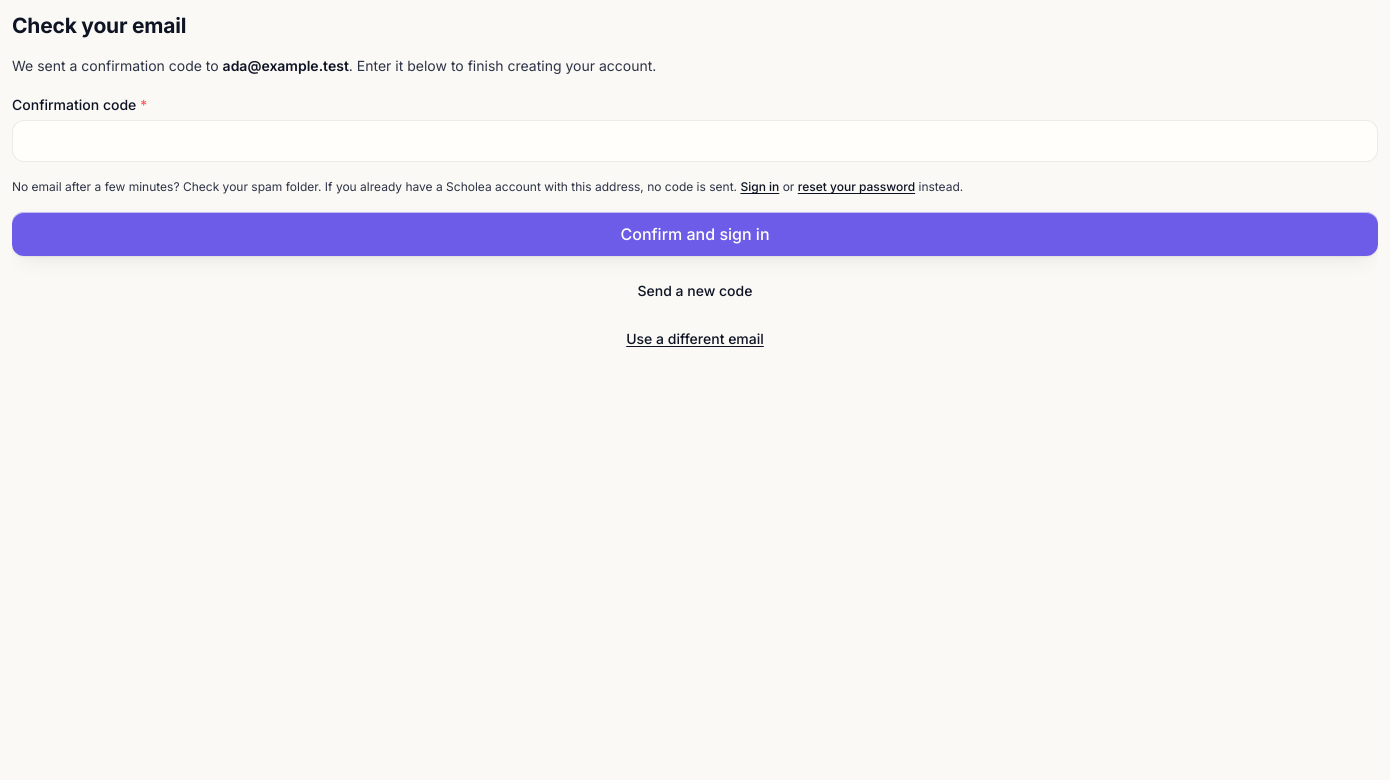
it: the account screens where an account can be created (the research app) › still lets the person start over with a different email
Click the button "Use a different email".
click(695, 339)  # box [626,328,764,349]
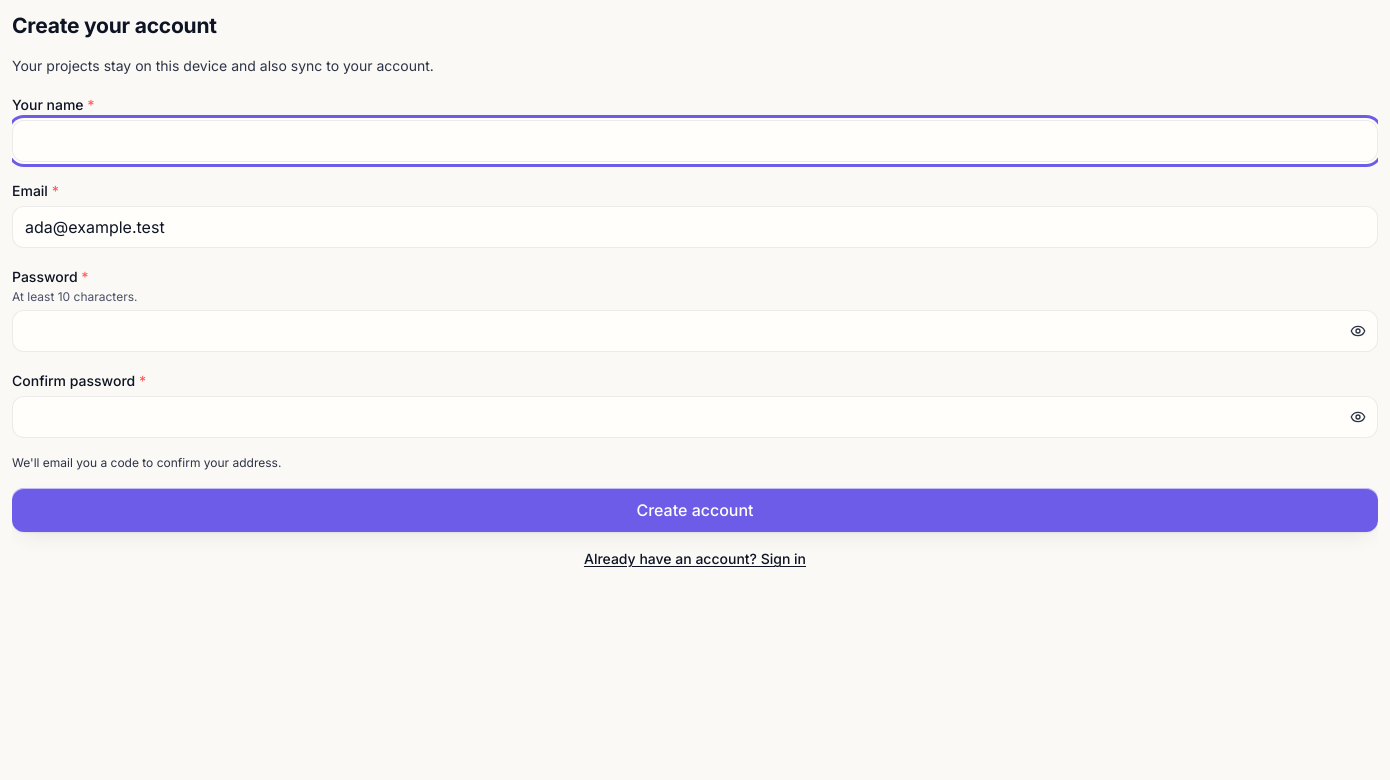
Expected: the heading reads "Create your account", [12,13,217,38]
Expected: the button "Create account" is shown, [12,488,1378,532]
